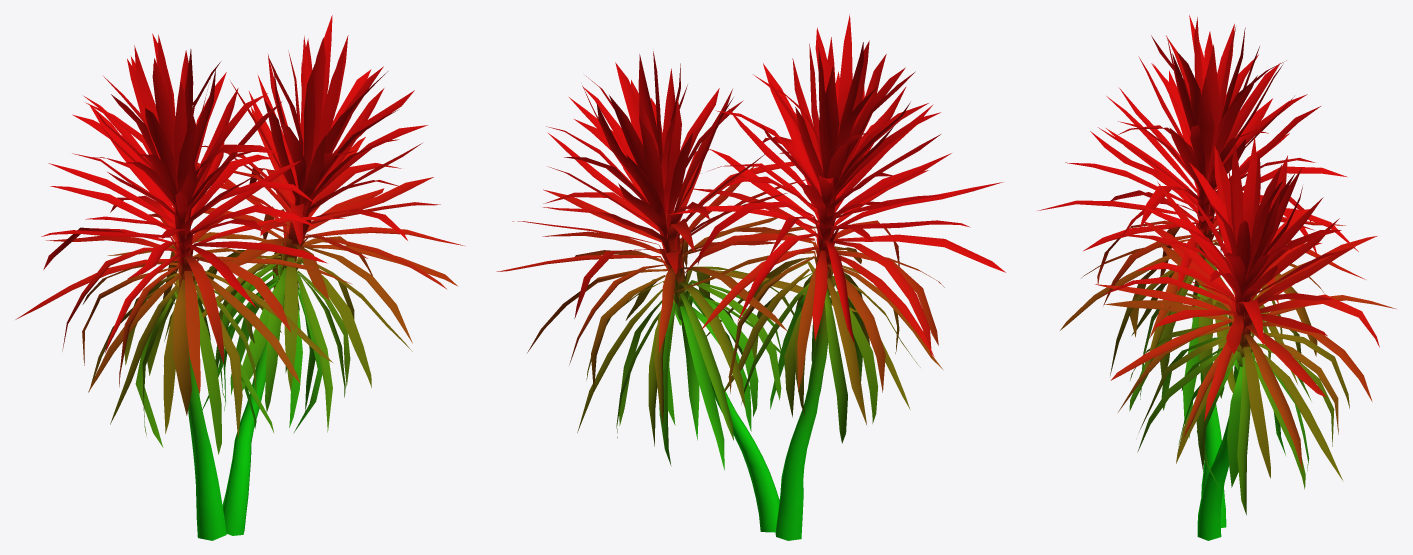
The model's file is SM_Palm04_LOD1.fbx.
The picture shows the model from 3 angles, left to right: view 1: azimuth 30°, elevation 25°; view 2: azimuth 150°, elevation 25°; view 3: azimuth 270°, elevation 25°; orthographic projection. The views are drawn at different scales.
Visible parts, largest first — view 1: _yx4c_Var5_LOD4; view 2: _yx4c_Var5_LOD4; view 3: _yx4c_Var5_LOD4.
Part boxes in pixels (<box>): _yx4c_Var5_LOD4: <box>15,15,465,540</box>; _yx4c_Var5_LOD4: <box>496,14,1005,540</box>; _yx4c_Var5_LOD4: <box>1037,15,1395,540</box>.
Bounding box in the file's own units: 121 × 137 × 93.07.
